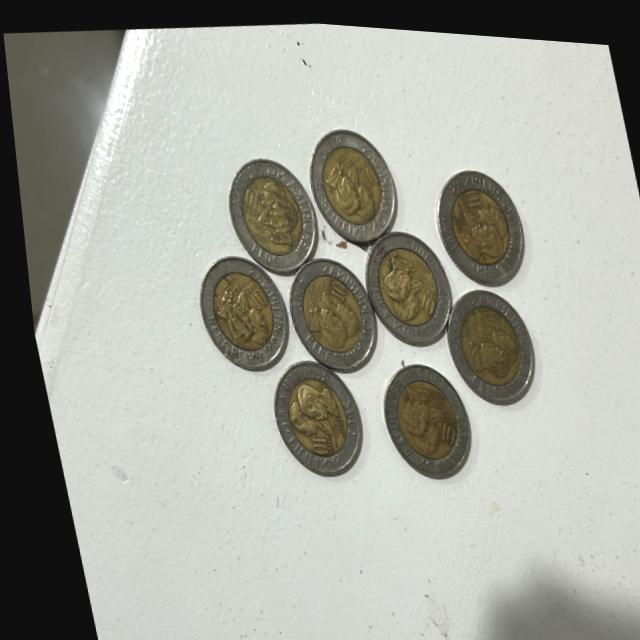10_Old_Front: (453, 294, 515, 368), (405, 272, 439, 315), (232, 180, 264, 223), (422, 396, 454, 438), (297, 418, 331, 453), (348, 152, 382, 187), (314, 265, 346, 301), (455, 177, 484, 215), (234, 271, 260, 302)
